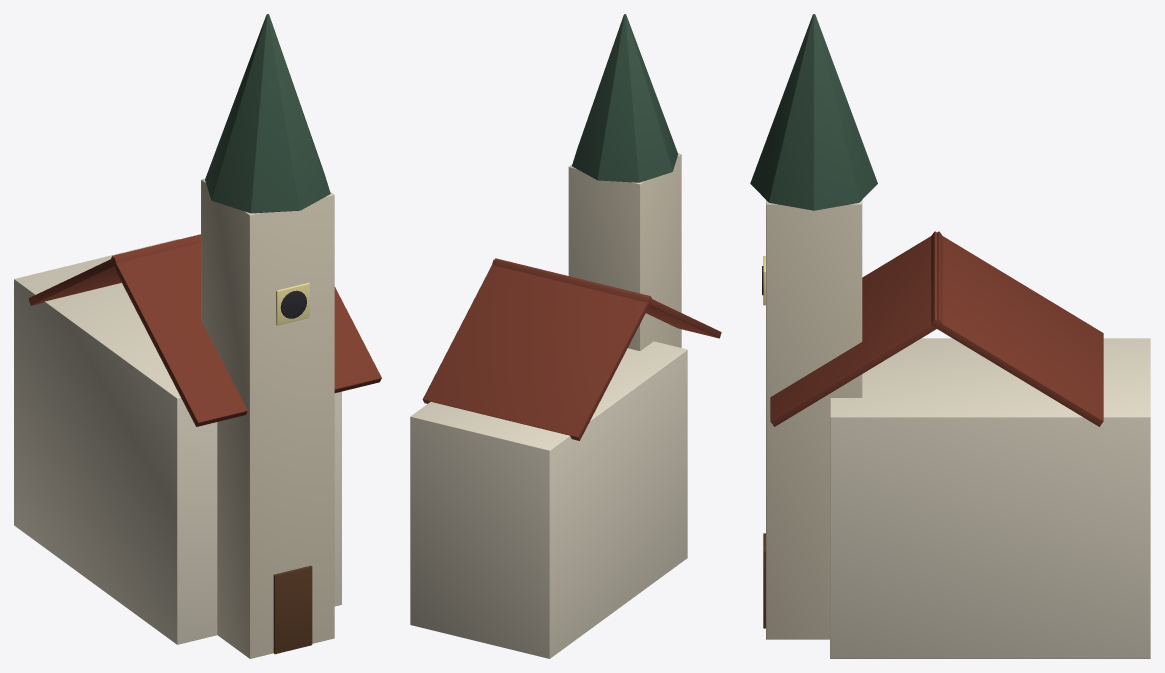
File: rg_europa_3.glb
3 views of the same model, side by side, from view 1: azimuth 30°, elevation 25°; view 2: azimuth 150°, elevation 25°; view 3: azimuth 270°, elevation 25° (orthographic). The views are drawn at different scales.
Visible parts, largest first — view 1: rg_europa_3; view 2: rg_europa_3; view 3: rg_europa_3.
Part boxes in pixels (x1,y1,x2,y2): rg_europa_3: (14,14,381,658); rg_europa_3: (410,14,721,658); rg_europa_3: (750,14,1150,658).
Size of the model in its own units: 7.8 by 25 by 14.99.
